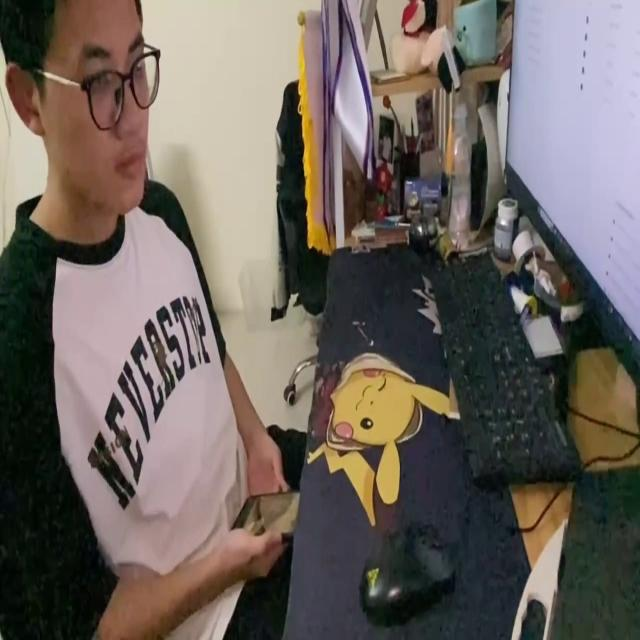laptop: (504, 2, 640, 396)
phone: (221, 478, 305, 543)
student: (1, 0, 303, 640)
